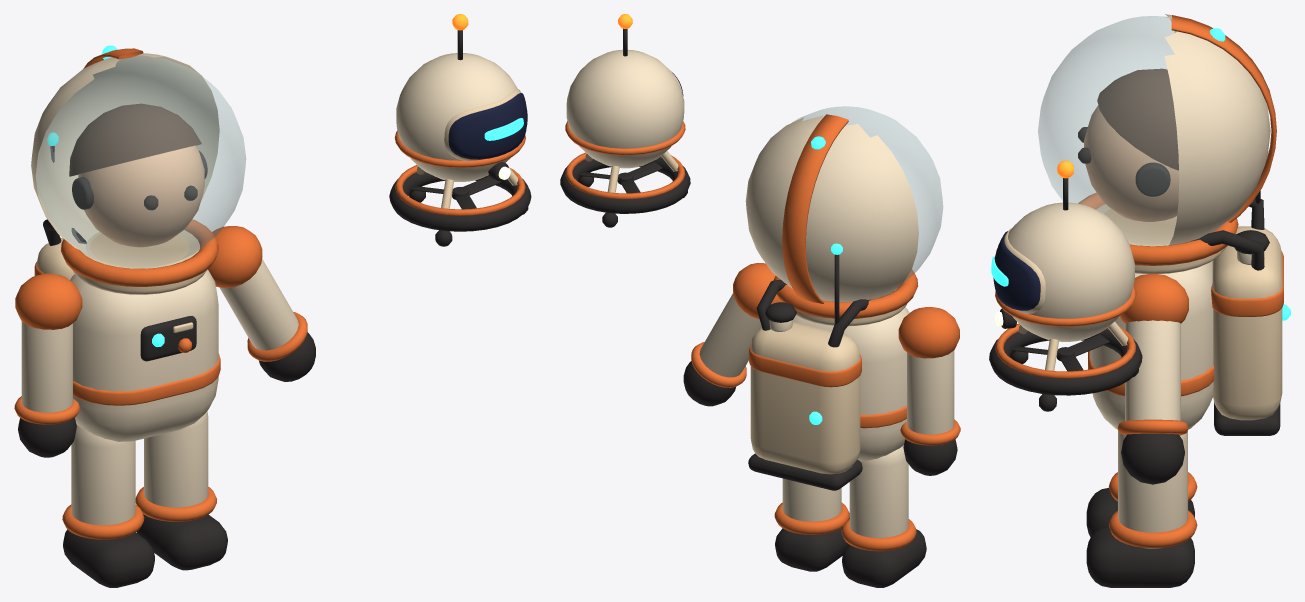
Rendered from echo-1-size.glb.
3 renders of one model, left to right at view 1: azimuth 30°, elevation 25°; view 2: azimuth 150°, elevation 25°; view 3: azimuth 270°, elevation 25°, orthographic. The views are drawn at different scales.
Parts seen in each view (by area): view 1: body, body.001, leg_r, arm_r, leg_l, arm_l, rotor; view 2: body, body.001, arm_r, leg_r, arm_l, leg_l, rotor; view 3: body, body.001, arm_l, leg_l, leg_r, rotor.
Boxes of the visible parts, bbox=[...] form: body: bbox=[31, 45, 246, 441]; body.001: bbox=[389, 14, 531, 246]; leg_r: bbox=[62, 424, 154, 587]; arm_r: bbox=[14, 273, 82, 457]; leg_l: bbox=[135, 411, 227, 570]; arm_l: bbox=[207, 226, 315, 381]; rotor: bbox=[410, 176, 500, 209]; body: bbox=[745, 106, 943, 490]; body.001: bbox=[560, 14, 690, 227]; arm_r: bbox=[898, 307, 960, 475]; leg_r: bbox=[841, 445, 926, 587]; arm_l: bbox=[683, 263, 781, 406]; leg_l: bbox=[774, 478, 849, 571]; rotor: bbox=[579, 162, 662, 193]; body: bbox=[1038, 14, 1290, 435]; body.001: bbox=[989, 160, 1142, 411]; arm_l: bbox=[1117, 273, 1188, 484]; leg_l: bbox=[1086, 431, 1197, 587]; leg_r: bbox=[1086, 430, 1197, 537]; rotor: bbox=[1011, 334, 1109, 371].
Size of the model in its own units: 1.65 by 1.73 by 0.8645.
